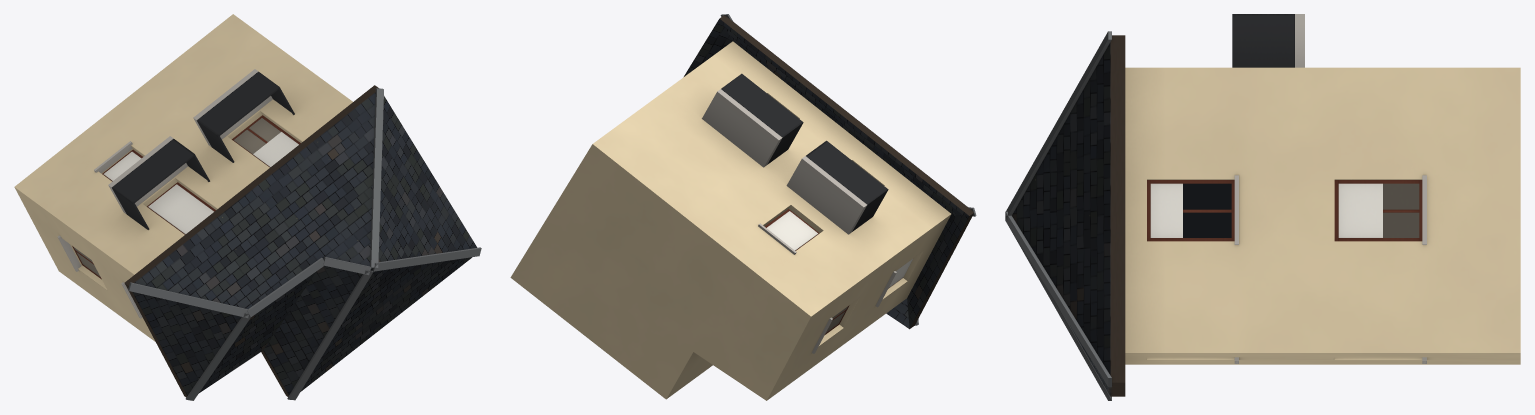
The model's file is house_b0434.obj.
The picture shows the model from 3 angles, left to right: view 1: azimuth 30°, elevation 25°; view 2: azimuth 150°, elevation 25°; view 3: azimuth 270°, elevation 25°; orthographic projection. The views are drawn at different scales.
Parts seen in each view (by area): view 1: house_b0434; view 2: house_b0434; view 3: house_b0434.
Boxes of the visible parts, <box> form: house_b0434: <box>14,14,481,400</box>; house_b0434: <box>510,14,976,400</box>; house_b0434: <box>1005,14,1520,400</box>.
Bounding box in the file's own units: 9.57 × 7.55 × 8.23.
1 material, 1 textured.
